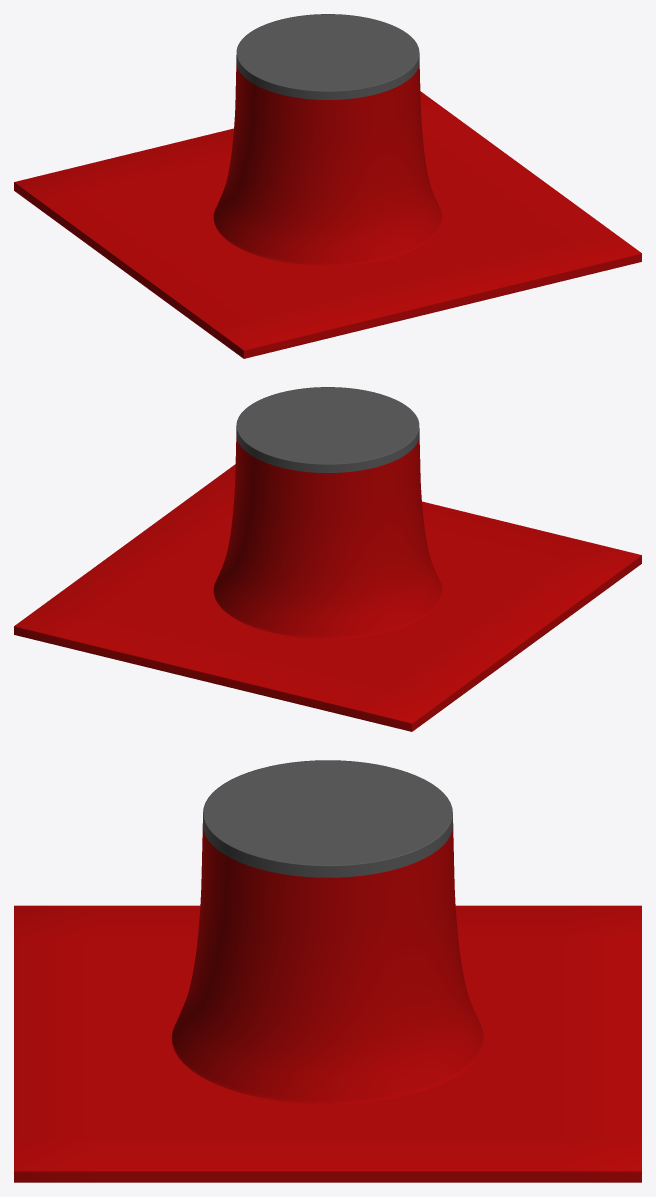
3 renders of one model, top to bottom at view 1: azimuth 30°, elevation 25°; view 2: azimuth 150°, elevation 25°; view 3: azimuth 270°, elevation 25°, orthographic. The views are drawn at different scales.
Visible parts, largest first — view 1: Link00; view 2: Link00; view 3: Link00.
Boxes of the visible parts, box(x1,y1,x2,y2) form: Link00: box(14, 14, 641, 358); Link00: box(14, 387, 641, 731); Link00: box(14, 760, 641, 1182).
Bounding box in the file's own units: 0.24 × 0.24 × 0.1.
